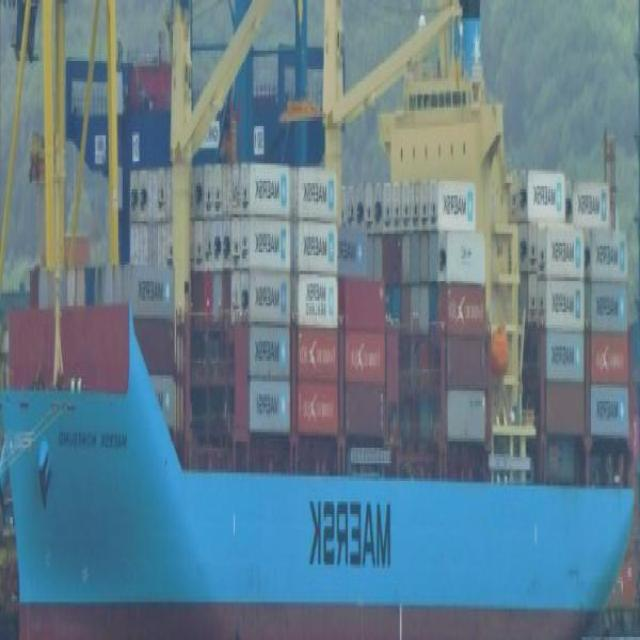Container Ship: (2, 1, 638, 636)
